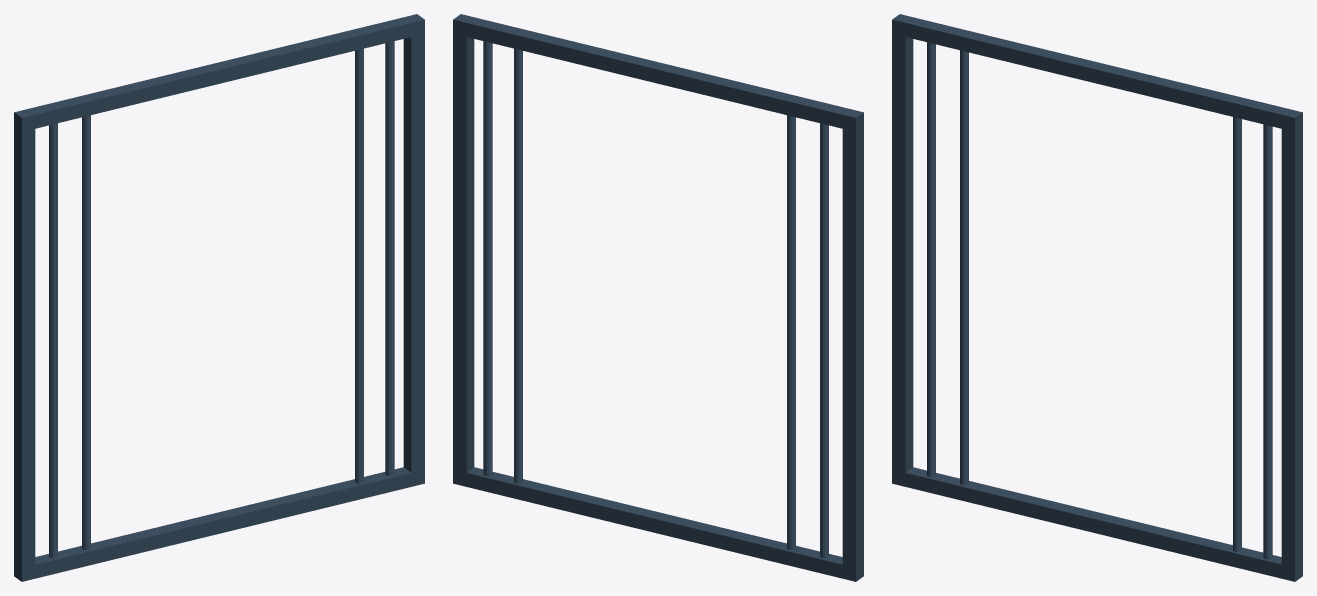
Rendered from gate-wall-frame.fbx.
3 views of the same model, side by side, from view 1: azimuth 30°, elevation 25°; view 2: azimuth 150°, elevation 25°; view 3: azimuth 330°, elevation 25° (orthographic).
Parts seen in each view (by area): view 1: gate-wall-frame; view 2: gate-wall-frame; view 3: gate-wall-frame.
Boxes of the visible parts, x1,y1,x2,y2 form: gate-wall-frame: (14, 14, 424, 581); gate-wall-frame: (453, 14, 863, 581); gate-wall-frame: (892, 14, 1302, 581).
Size of the model in its own units: 3 by 0.1 by 3.3.
1 material, 1 textured.
